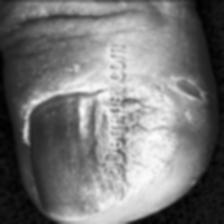Toxin: (25, 60, 104, 156), (127, 69, 178, 189), (36, 183, 126, 214)
